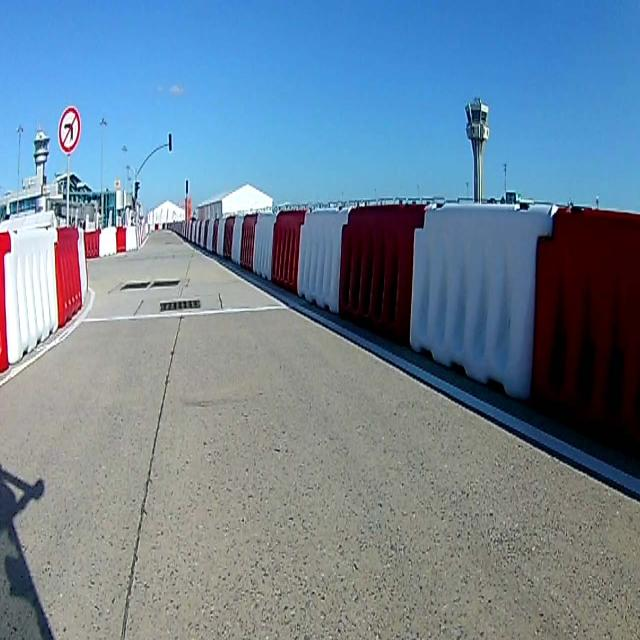soladonulmez: (58, 106, 82, 154)
